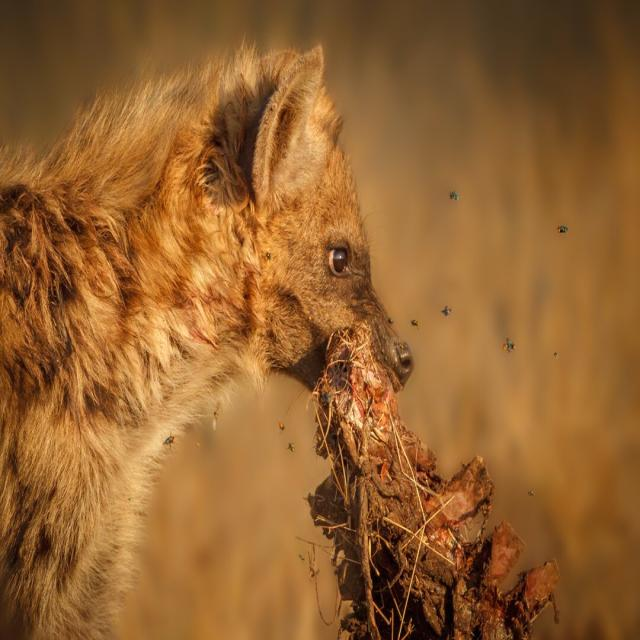Hyena: (0, 48, 417, 639)
